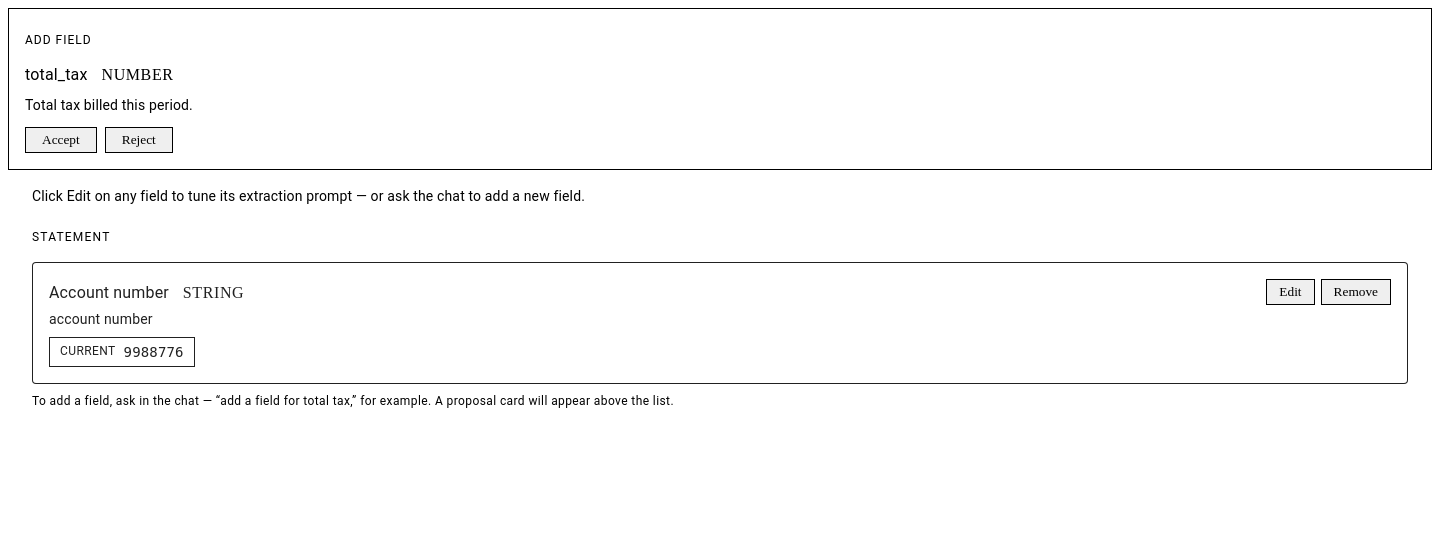
Test case: ProposeSchemaFieldCard (UI-01 Phase 2a) › Accept → SchemaView shows the new field with a live extracted value (UI-01 Phase 2c round-trip)
The image size is (1440, 547).
Expected: the element with test id "schema-field-account_number" is shown, [32, 262, 1408, 384]
Click the button with test id "propose-schema-field-accept": (61, 140) [25, 127, 97, 153]
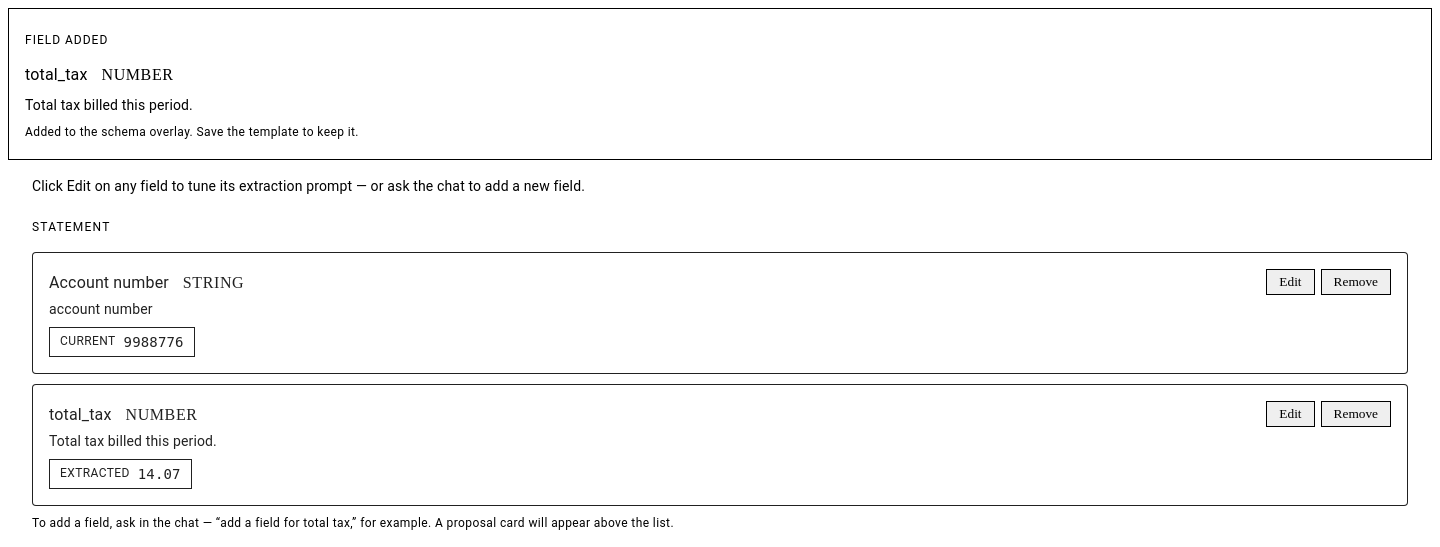
Expected: the text "14.07" is shown, [138, 464, 181, 484]
